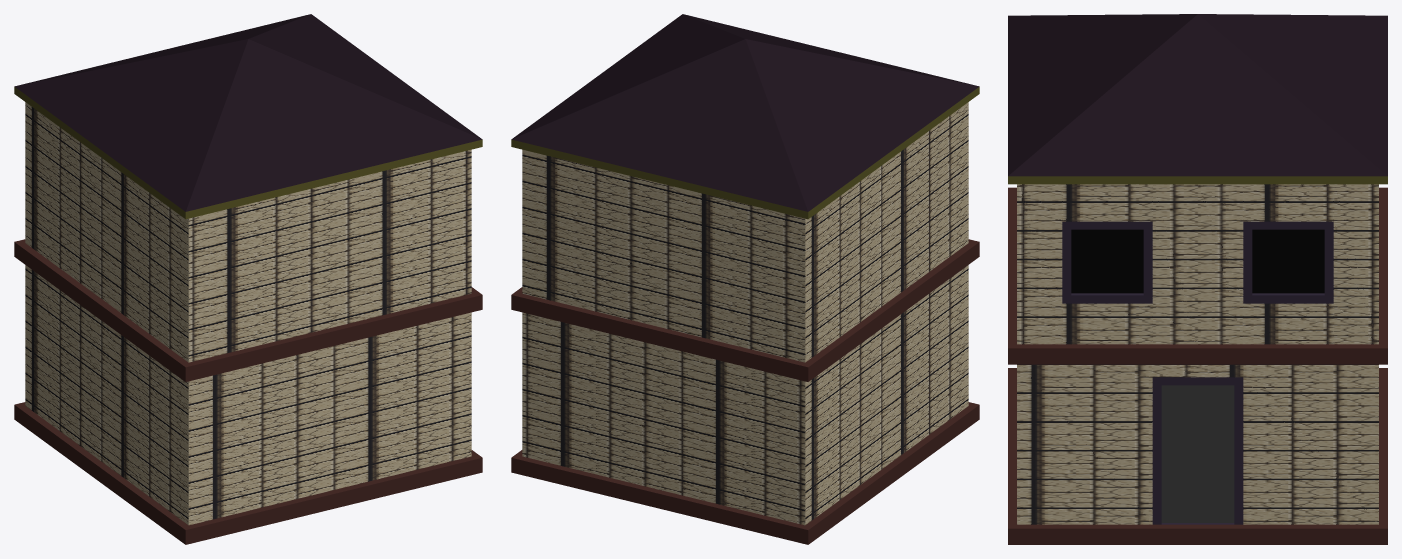
Rendered from buil4.glb.
3 renders of one model, left to right at view 1: azimuth 30°, elevation 25°; view 2: azimuth 150°, elevation 25°; view 3: azimuth 270°, elevation 25°, orthographic. The views are drawn at different scales.
Visible parts, largest first — view 1: building_005; view 2: building_005; view 3: building_005.
Part boxes in pixels (bbox=[...]): building_005: bbox=[14, 14, 482, 544]; building_005: bbox=[511, 14, 979, 544]; building_005: bbox=[1008, 14, 1387, 544].
Size of the model in its own units: 4.2 by 5.5 by 4.2.
7 materials, 1 textured.
